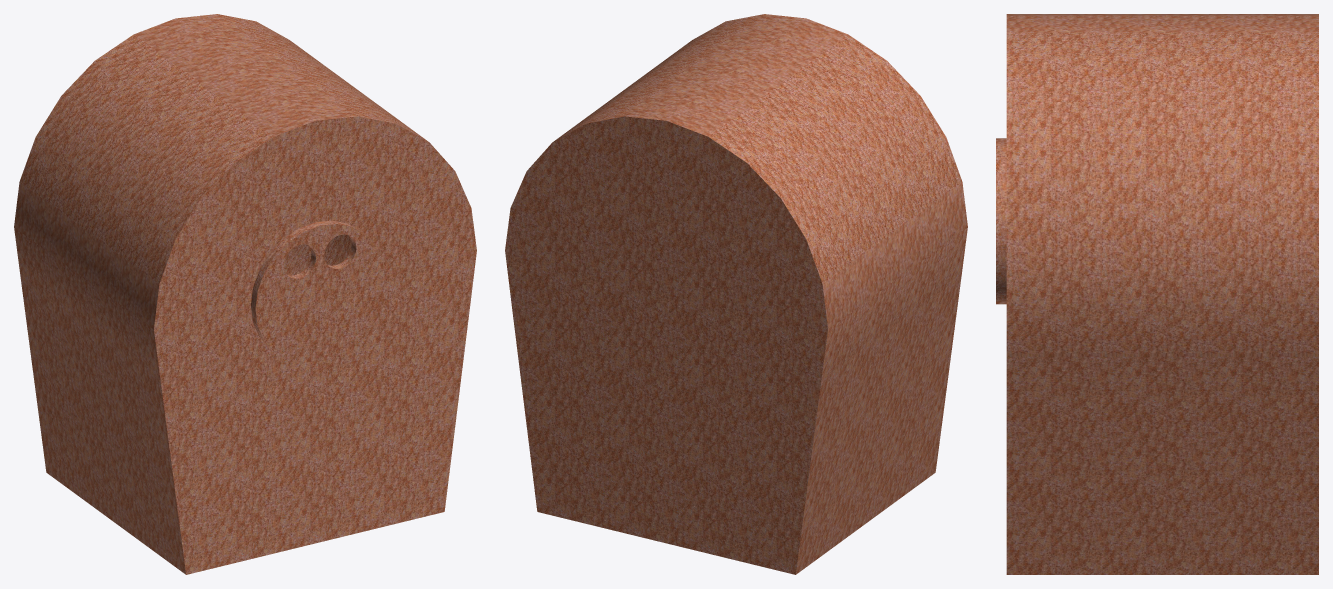
3 views of the same model, side by side, from view 1: azimuth 30°, elevation 25°; view 2: azimuth 150°, elevation 25°; view 3: azimuth 270°, elevation 25° (orthographic). The views are drawn at different scales.
Parts seen in each view (by area): view 1: root; view 2: root; view 3: root.
Part boxes in pixels (left/top/right/bottom): root: left=14, top=14, right=476, bottom=574; root: left=505, top=14, right=967, bottom=574; root: left=996, top=14, right=1318, bottom=574.
Bounding box in the file's own units: 2 × 2.5 × 1.55.
Materials: 1 (1 with a texture image).
